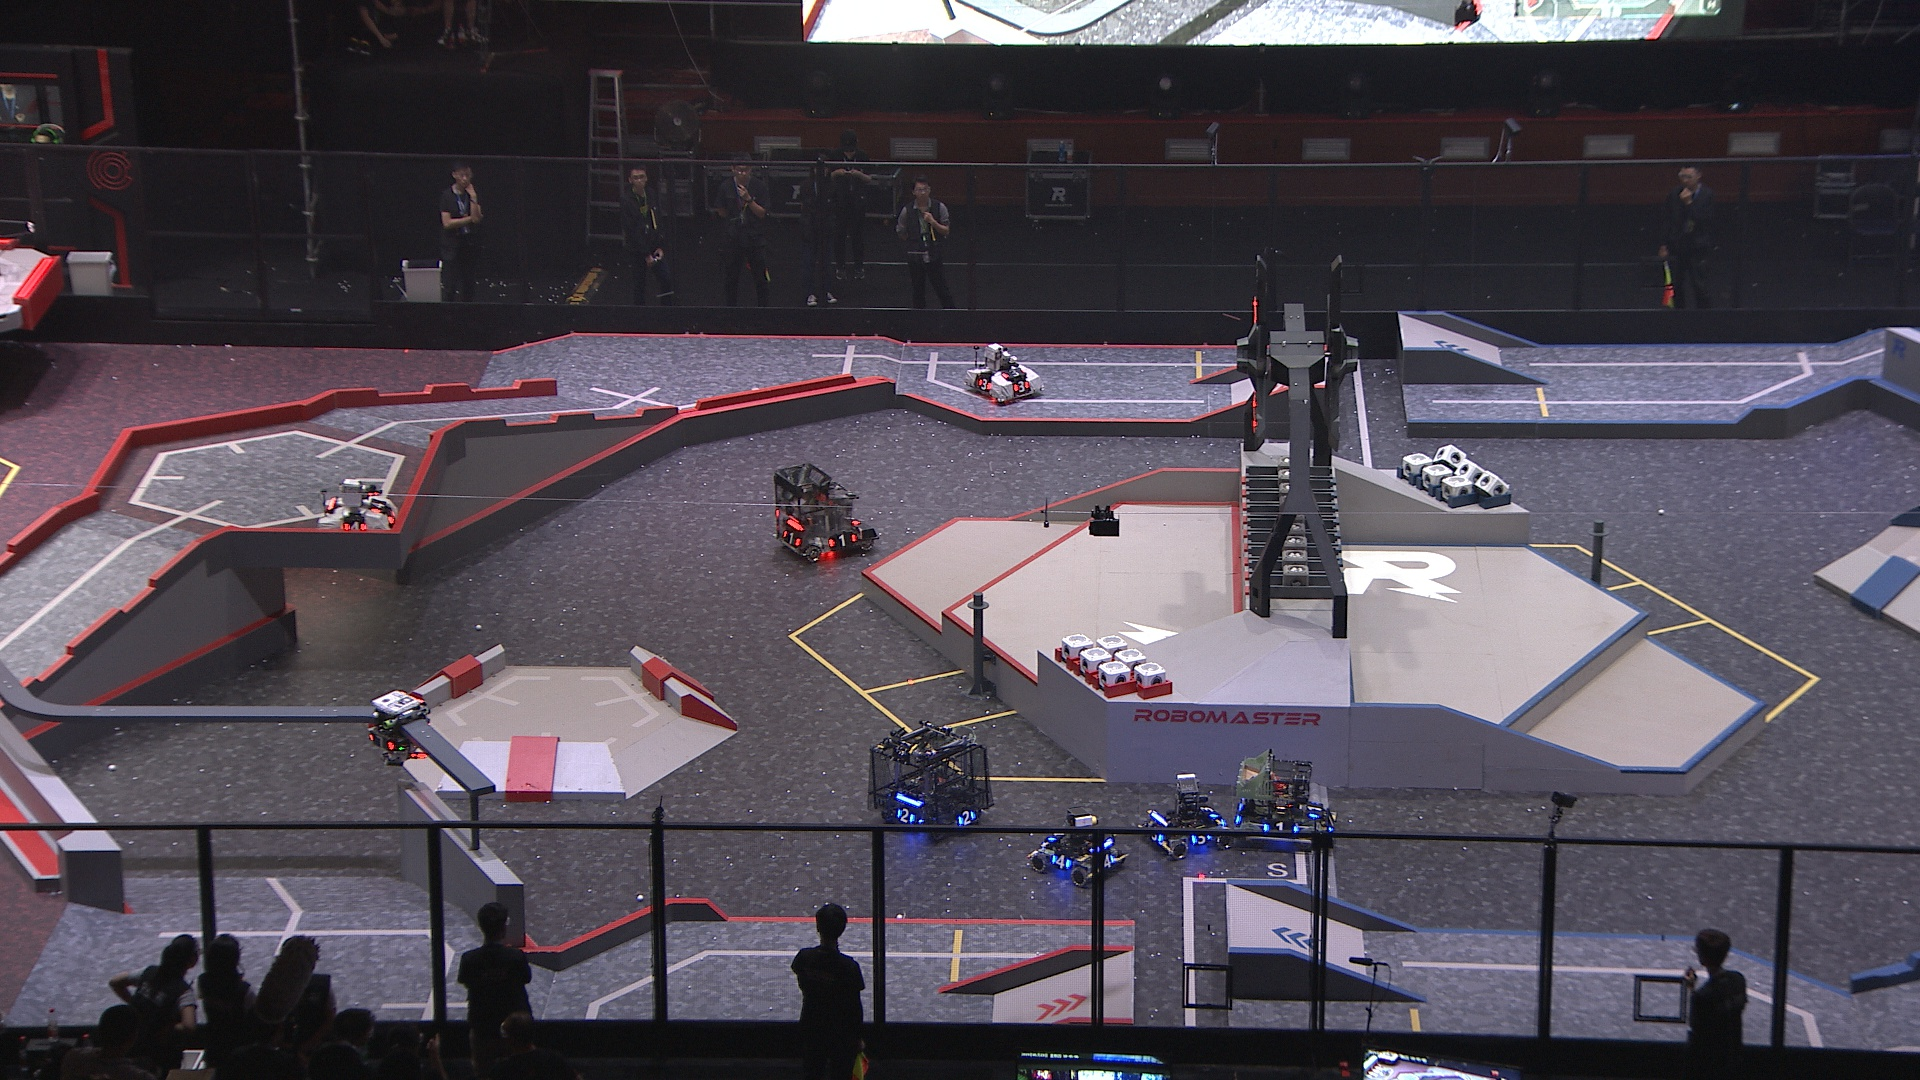armor: (363, 731, 396, 752), (1262, 818, 1300, 833), (827, 531, 856, 549), (956, 808, 978, 828), (894, 807, 916, 827), (1048, 855, 1073, 872), (782, 527, 802, 549), (339, 520, 367, 533), (1199, 803, 1220, 820), (1305, 803, 1324, 822), (1191, 833, 1212, 849), (368, 496, 386, 513), (1011, 378, 1031, 394), (1100, 851, 1116, 869), (1324, 812, 1338, 832), (975, 376, 992, 392), (1002, 368, 1026, 378)
car: (866, 719, 996, 845), (770, 463, 877, 564), (1233, 749, 1340, 847), (1135, 771, 1234, 858), (1026, 811, 1129, 887), (315, 477, 401, 541), (964, 343, 1043, 405)
watcher: (361, 688, 429, 765)
